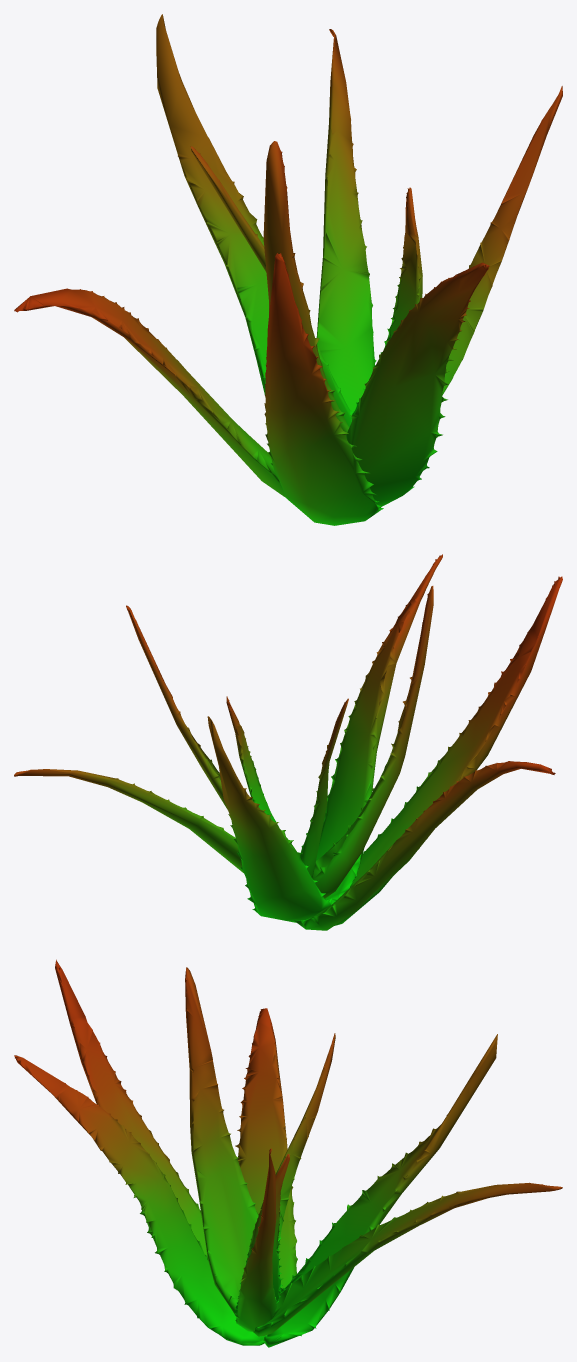
The model's file is Aloe Vera_LOD3_Var8_ve4tbbrha.fbx.
The picture shows the model from 3 angles, top to bottom: view 1: azimuth 30°, elevation 25°; view 2: azimuth 150°, elevation 25°; view 3: azimuth 270°, elevation 25°; orthographic projection. The views are drawn at different scales.
Visible parts, largest first — view 1: _wzpr_Var8_LOD3; view 2: _wzpr_Var8_LOD3; view 3: _wzpr_Var8_LOD3.
Part boxes in pixels (x1=…): _wzpr_Var8_LOD3: x1=14, y1=14, x2=562, y2=525; _wzpr_Var8_LOD3: x1=14, y1=554, x2=562, y2=930; _wzpr_Var8_LOD3: x1=14, y1=959, x2=562, y2=1347.
Bounding box in the file's own units: 47.55 × 35.63 × 53.22.
